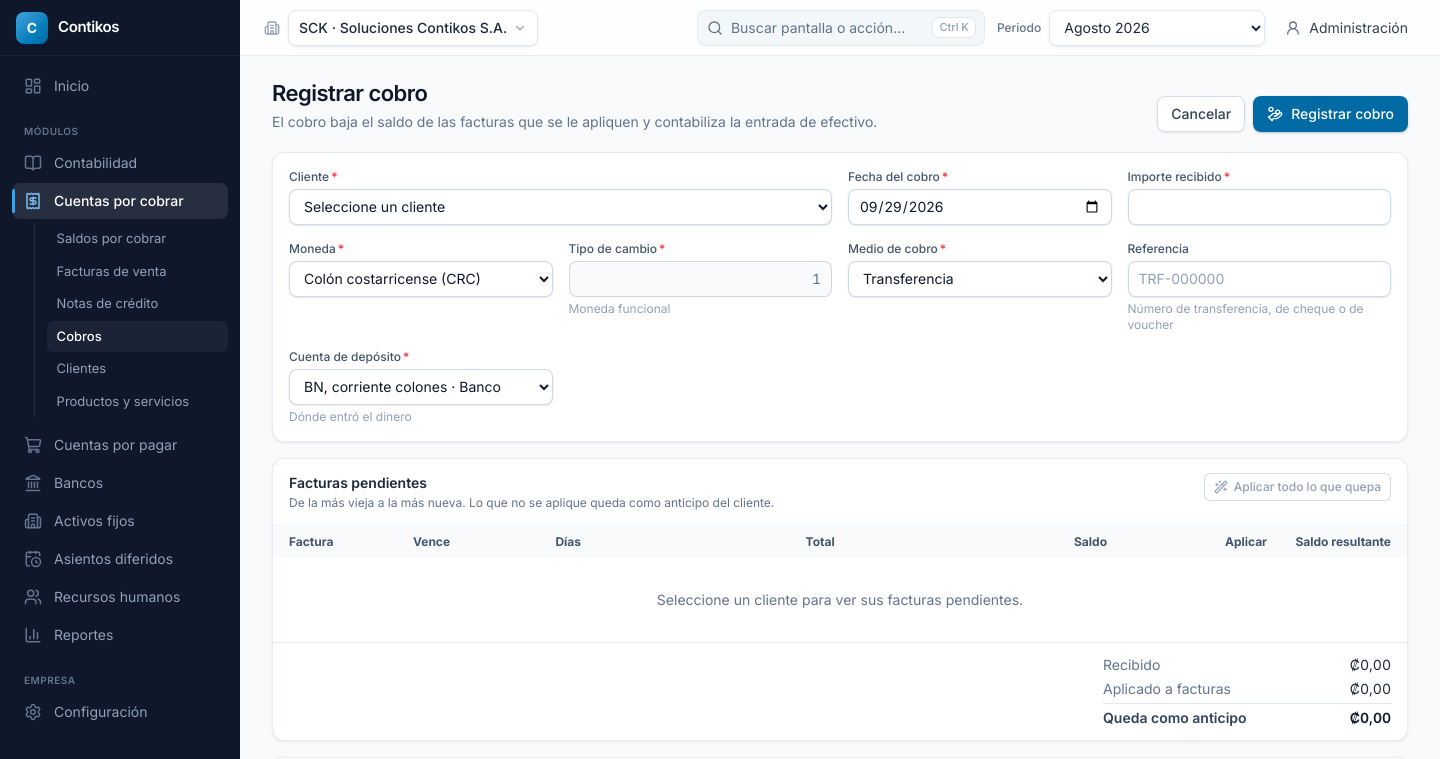
Test case: Cobro de cuentas por cobrar › salda una factura, deja otra parcial y contabiliza el asiento
The image size is (1440, 759).
Select "C-002 · Comercial La Sabana S.A." in the dropdown labelled "Cliente*" at (560, 206), box [289,188,832,224]
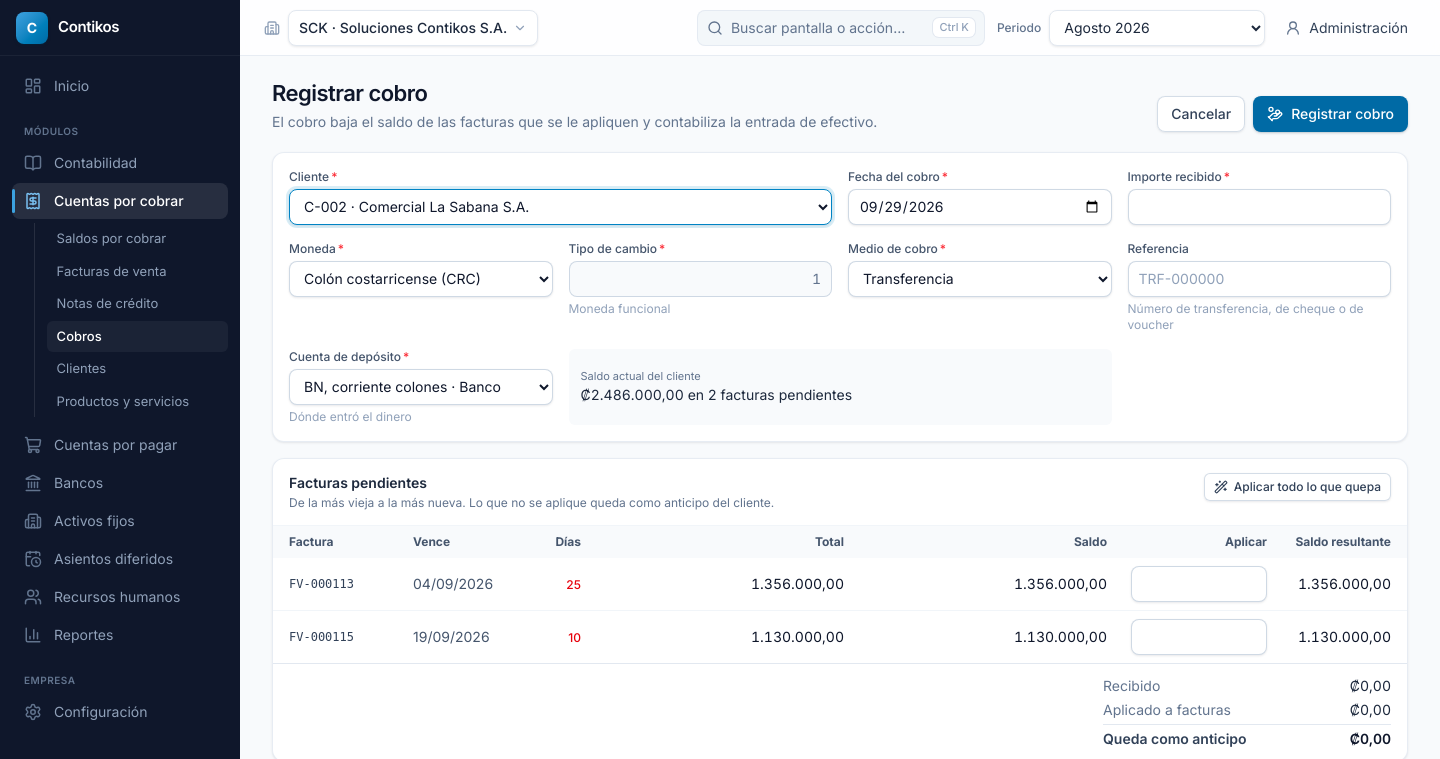
Type "2026-08-20" into the date field labelled "Fecha del cobro*" at (980, 206), box [848,188,1112,224]
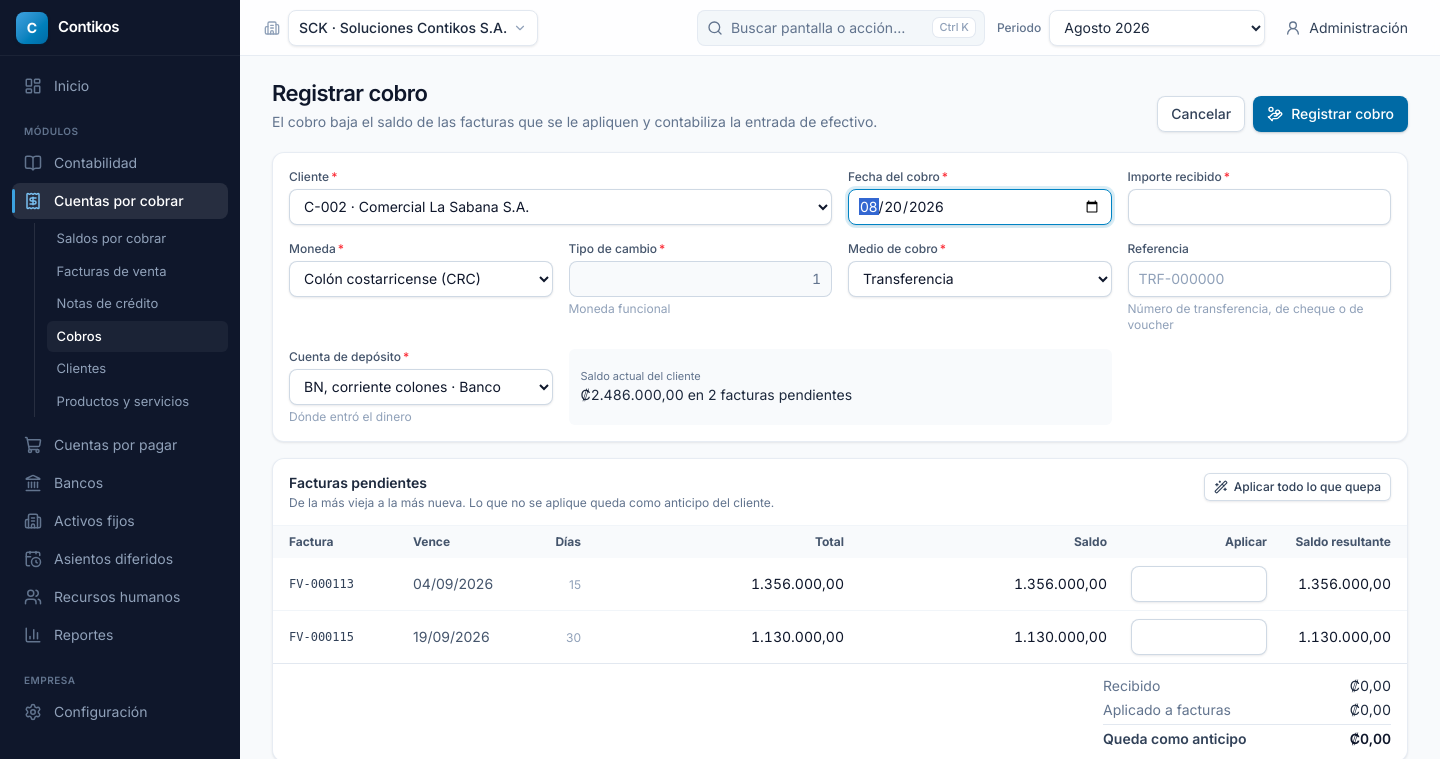
Type "2000000" into the field labelled "Importe recibido*" at (1259, 206), box [1128,188,1391,224]
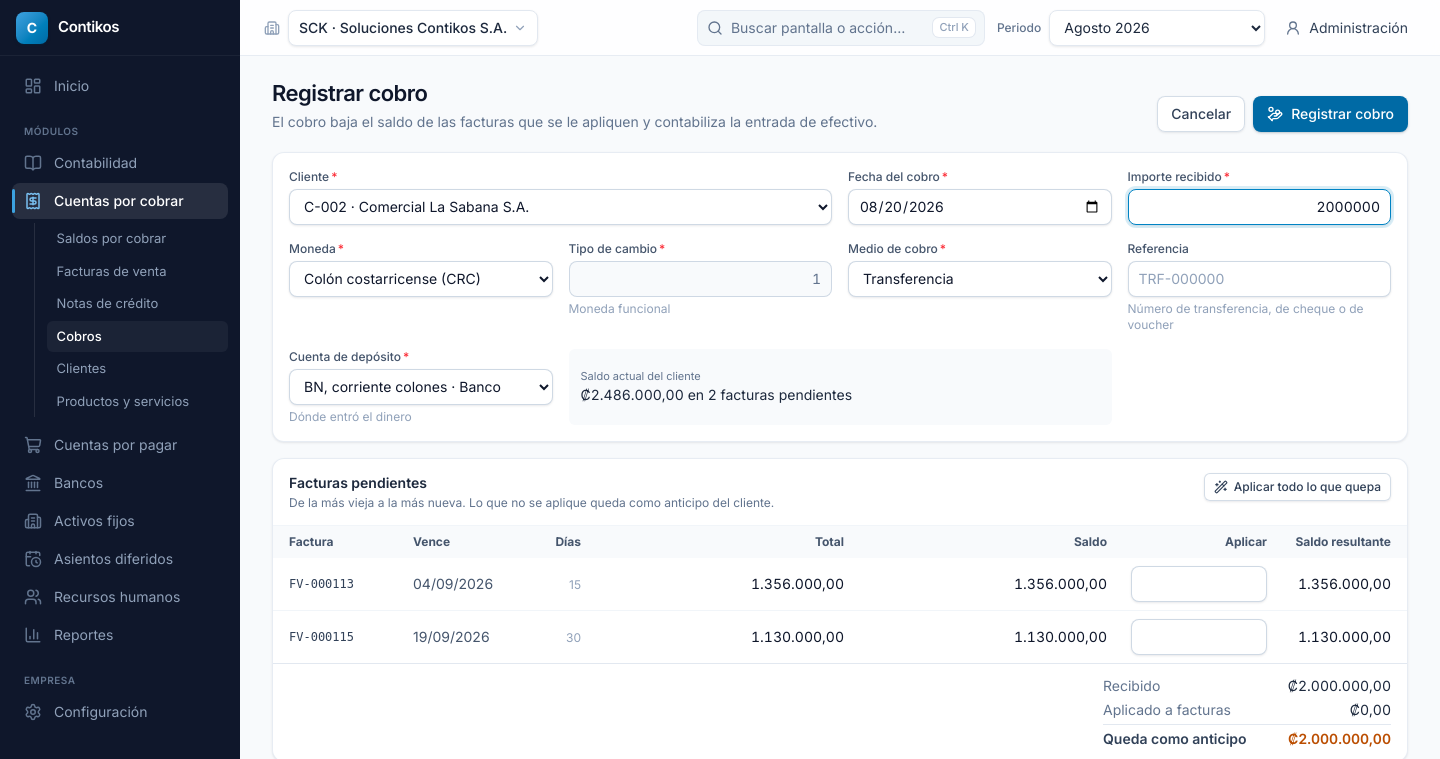
Press Tab
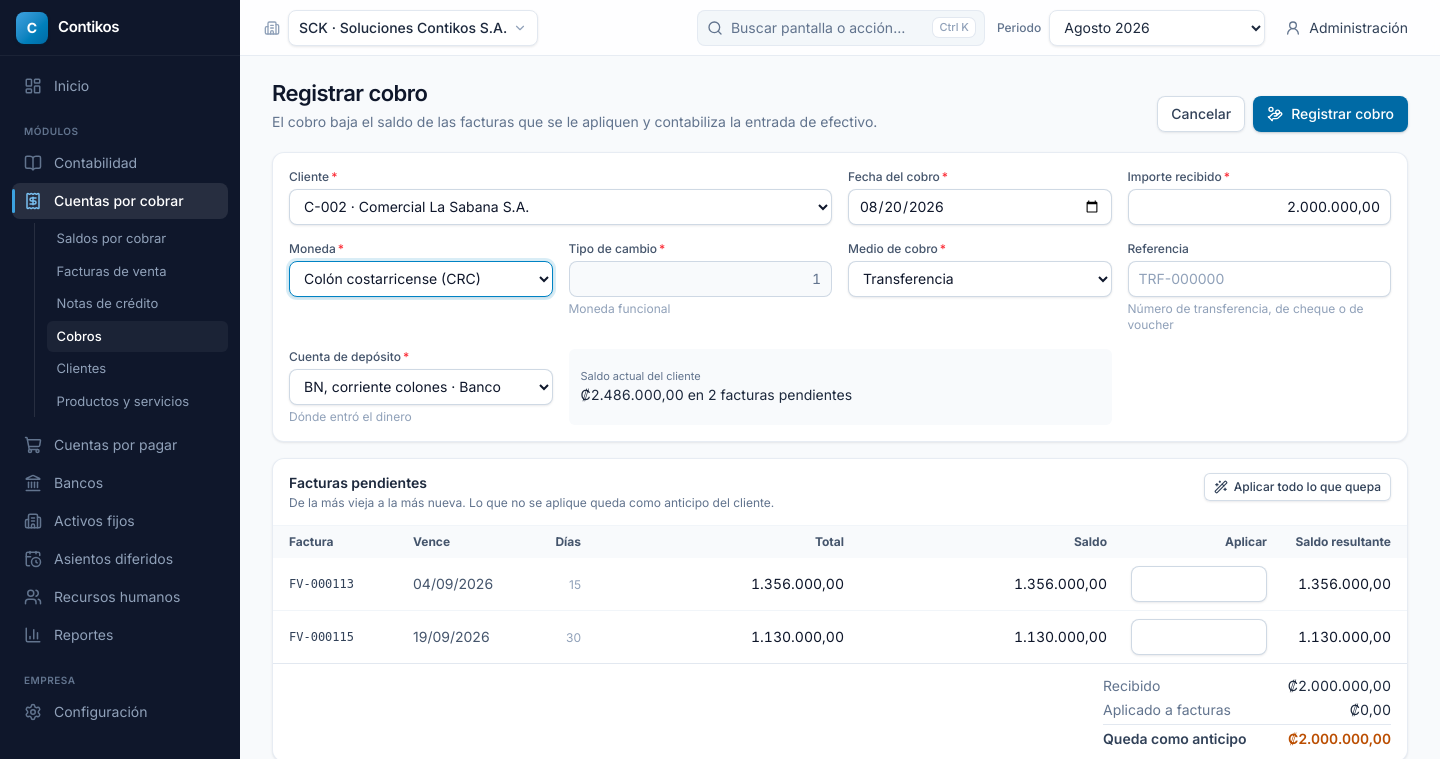
Result: the text "FV-000113" is shown at [273,558,401,610]
Result: the text "FV-000115" is shown at [273,610,401,662]
Click the button "Aplicar todo lo que quepa" at (1297, 486), box [1204,472,1391,500]
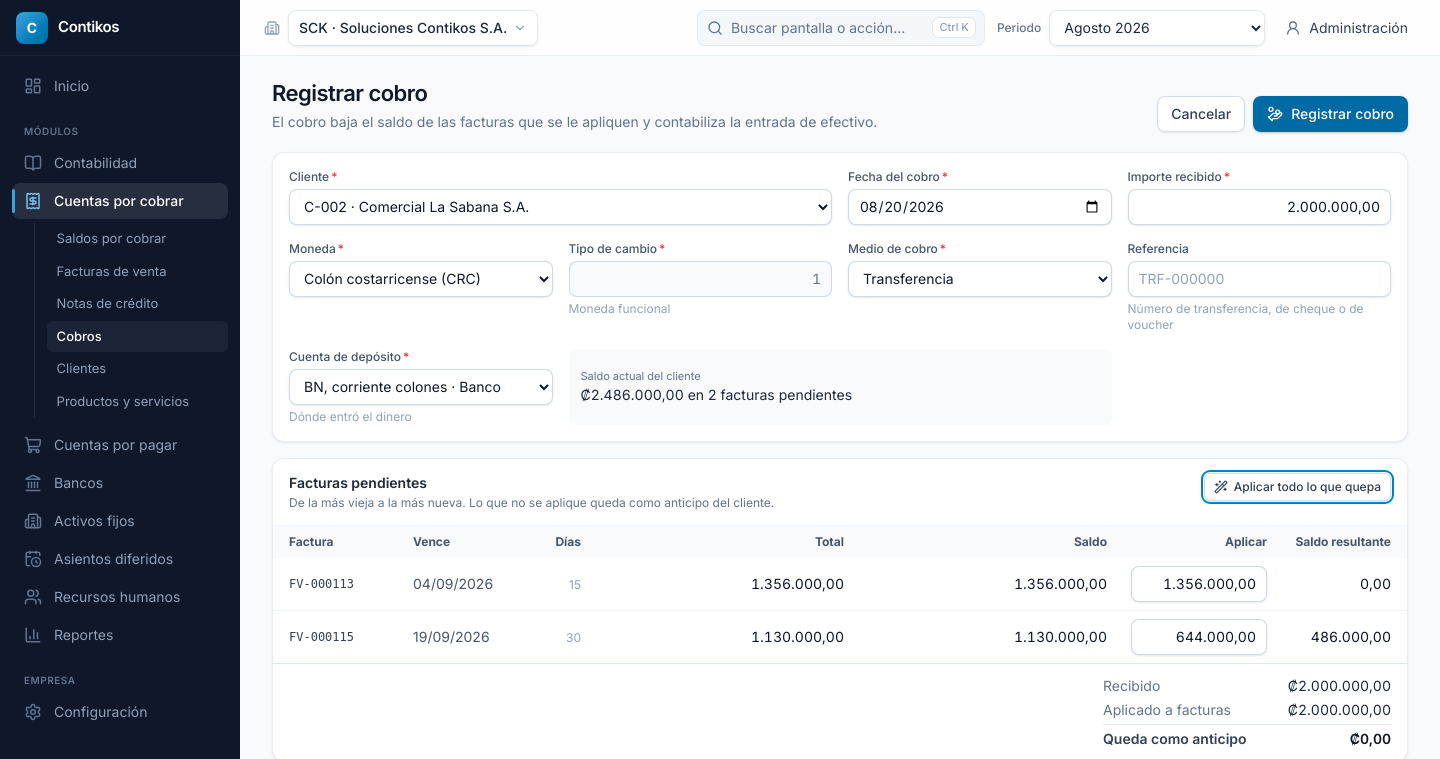
Result: the field named "Importe aplicado a FV-000113" holds "1.356.000,00" at [1131,566,1267,602]
Click the button "Registrar cobro" at (1331, 114), box [1253,96,1408,132]
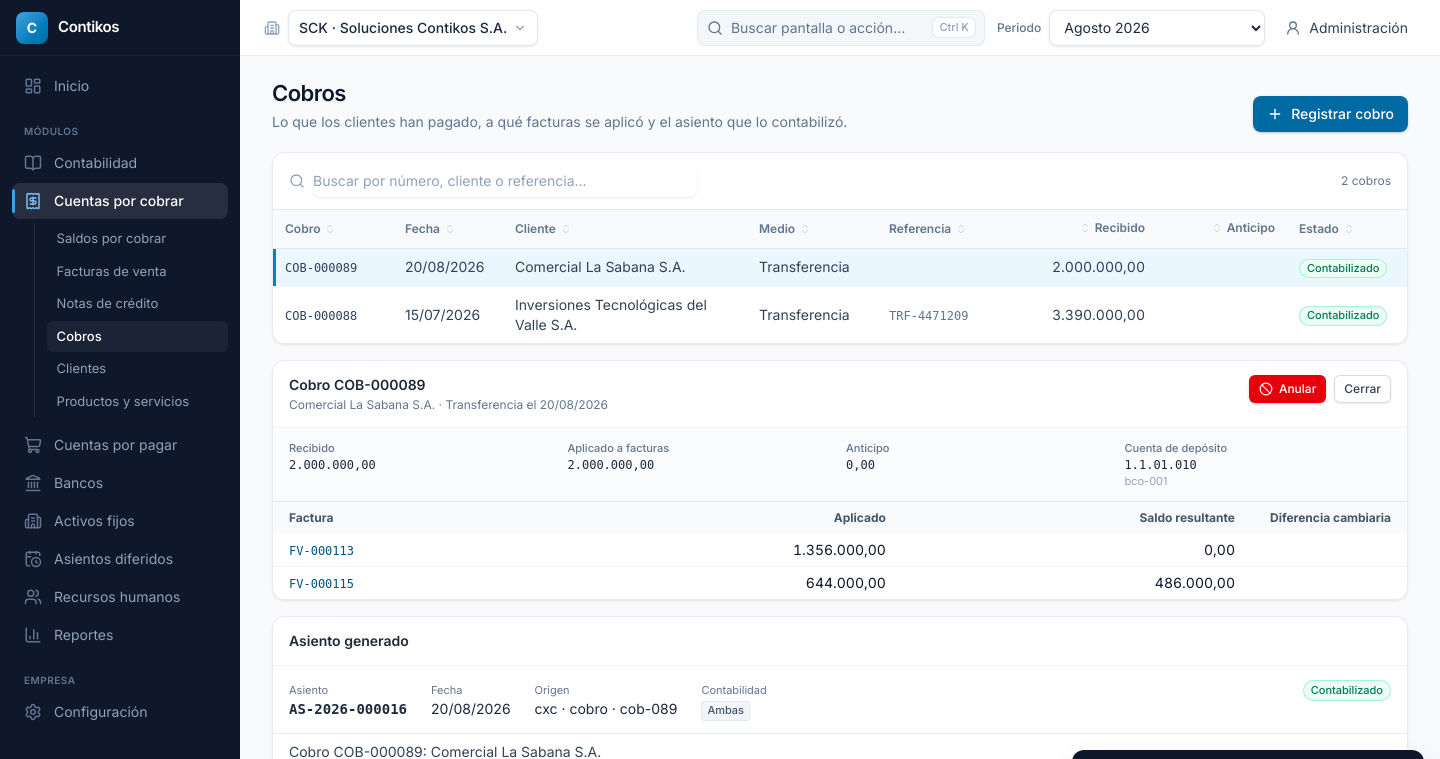
Result: the heading "Cobros" is shown at [272,80,346,106]
Result: the text "Comercial La Sabana S.A." is shown at [503,248,747,287]
Result: the 1st text "Transferencia" is shown at [747,248,877,287]
